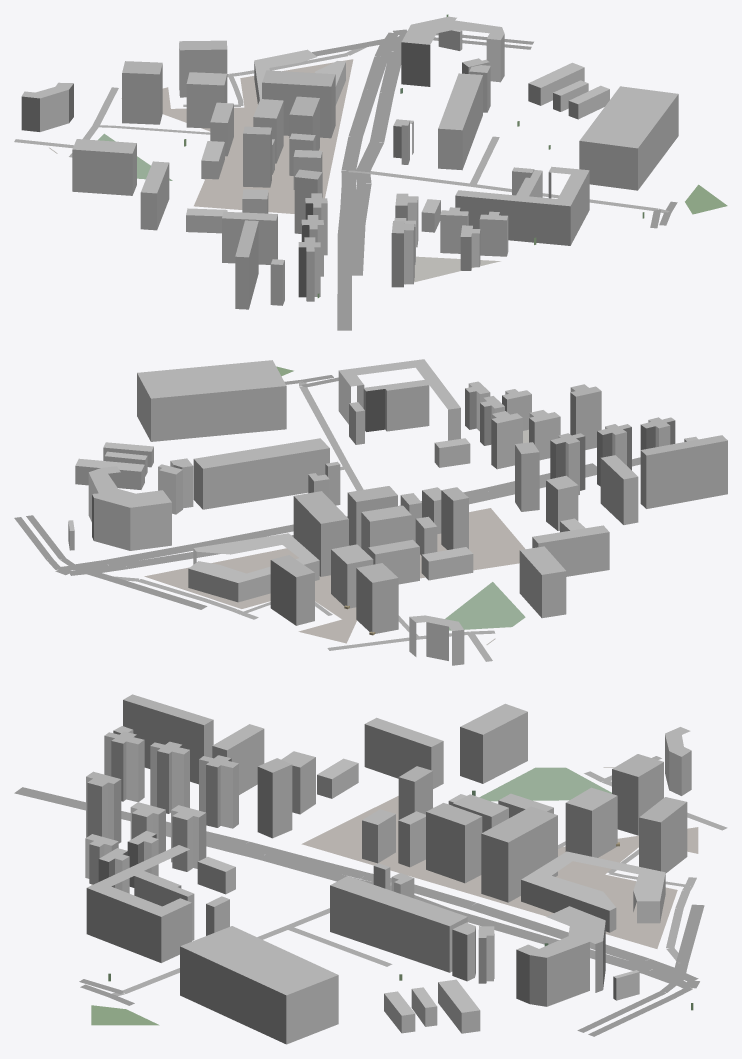
3 views of the same model, one above another, from view 1: azimuth 30°, elevation 25°; view 2: azimuth 150°, elevation 25°; view 3: azimuth 270°, elevation 25° (orthographic). The views are drawn at different scales.
Size of the model in its own units: 568 by 60.78 by 588.
